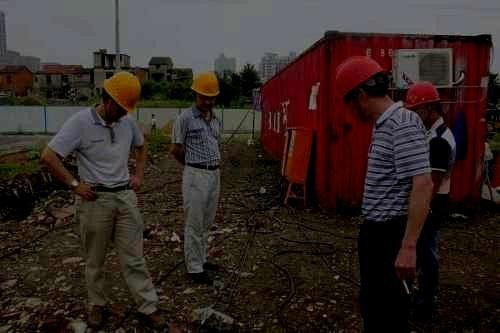helmet: (335, 54, 390, 123), (100, 70, 141, 122), (404, 80, 441, 126), (190, 70, 220, 110)
